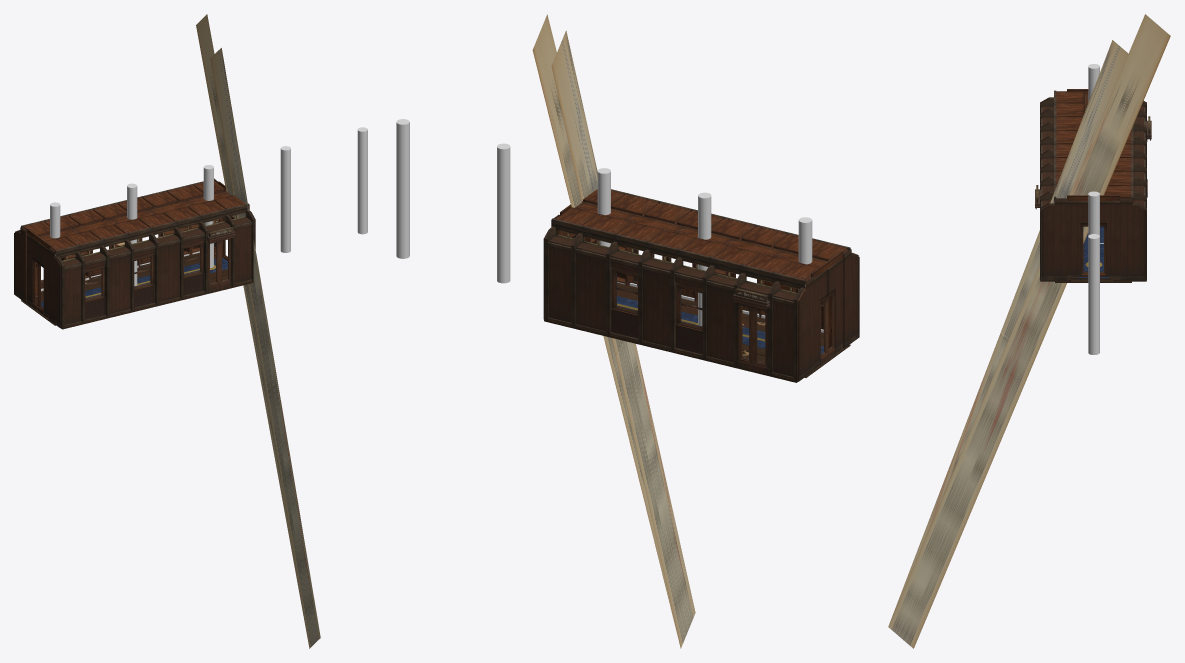
The model's file is SC03_TRAIN_RIDE_v10_Export_B.fbx.
3 views of the same model, side by side, from view 1: azimuth 30°, elevation 25°; view 2: azimuth 150°, elevation 25°; view 3: azimuth 270°, elevation 25° (orthographic). The views are drawn at different scales.
Visible parts, largest first — view 1: Plane.022, SALA_05.004, Old_Dusty_Bookshelf.006, Old_Dusty_Bookshelf.007, Cube.015, Cube.057, Cube.105, Old_Dusty_Bookshelf.020, Old_Dusty_Bookshelf.008, Cube.088, Cube.090, Cube.044 (+3 smaller); view 2: Plane.022, SALA_05.004, Old_Dusty_Bookshelf.018, Old_Dusty_Bookshelf.022, Old_Dusty_Bookshelf.019, Cube.015, Old_Dusty_Bookshelf.010, Old_Dusty_Bookshelf.015, Cube.090, Cube.088, Cube.176, Cube.059 (+6 smaller); view 3: Plane.022, SALA_05.004, Cube.098, Cube.097, Cube.093, Cube.094.
Part boxes in pixels (<box>): Plane.022: <box>196,14,320,648</box>; SALA_05.004: <box>50,127,367,286</box>; Old_Dusty_Bookshelf.006: <box>109,254,130,313</box>; Old_Dusty_Bookshelf.007: <box>158,242,179,301</box>; Cube.015: <box>39,191,231,240</box>; Cube.057: <box>126,233,155,307</box>; Cube.105: <box>78,245,105,319</box>; Old_Dusty_Bookshelf.020: <box>64,266,81,324</box>; Old_Dusty_Bookshelf.008: <box>234,225,251,283</box>; Cube.088: <box>49,248,61,328</box>; Cube.090: <box>14,227,26,302</box>; Cube.044: <box>55,203,249,253</box>; Plane.022: <box>532,14,695,648</box>; SALA_05.004: <box>396,119,812,326</box>; Old_Dusty_Bookshelf.018: <box>575,252,605,331</box>; Old_Dusty_Bookshelf.022: <box>642,269,670,346</box>; Old_Dusty_Bookshelf.019: <box>707,284,733,362</box>; Cube.015: <box>575,201,827,267</box>; Old_Dusty_Bookshelf.010: <box>548,246,571,322</box>; Old_Dusty_Bookshelf.015: <box>772,301,793,376</box>; Cube.090: <box>797,277,813,381</box>; Cube.088: <box>843,249,859,348</box>; Cube.176: <box>551,218,805,283</box>; Cube.059: <box>676,282,702,354</box>; Plane.022: <box>888,14,1170,648</box>; SALA_05.004: <box>1088,64,1099,354</box>; Cube.098: <box>1041,198,1067,280</box>; Cube.097: <box>1120,198,1145,280</box>; Cube.093: <box>1067,201,1088,279</box>; Cube.094: <box>1100,201,1119,279</box>.
Bounding box in the file's own units: 1503 × 2438 × 984.
